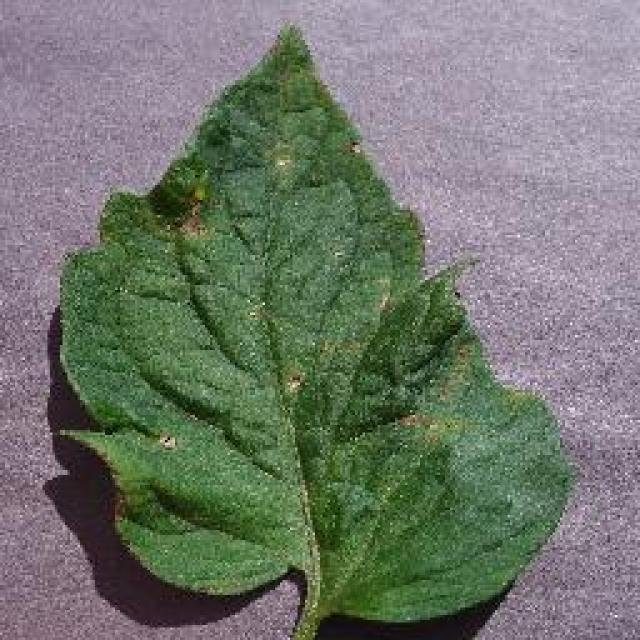Tomato Septoria spot leaf: (55, 20, 570, 628)
